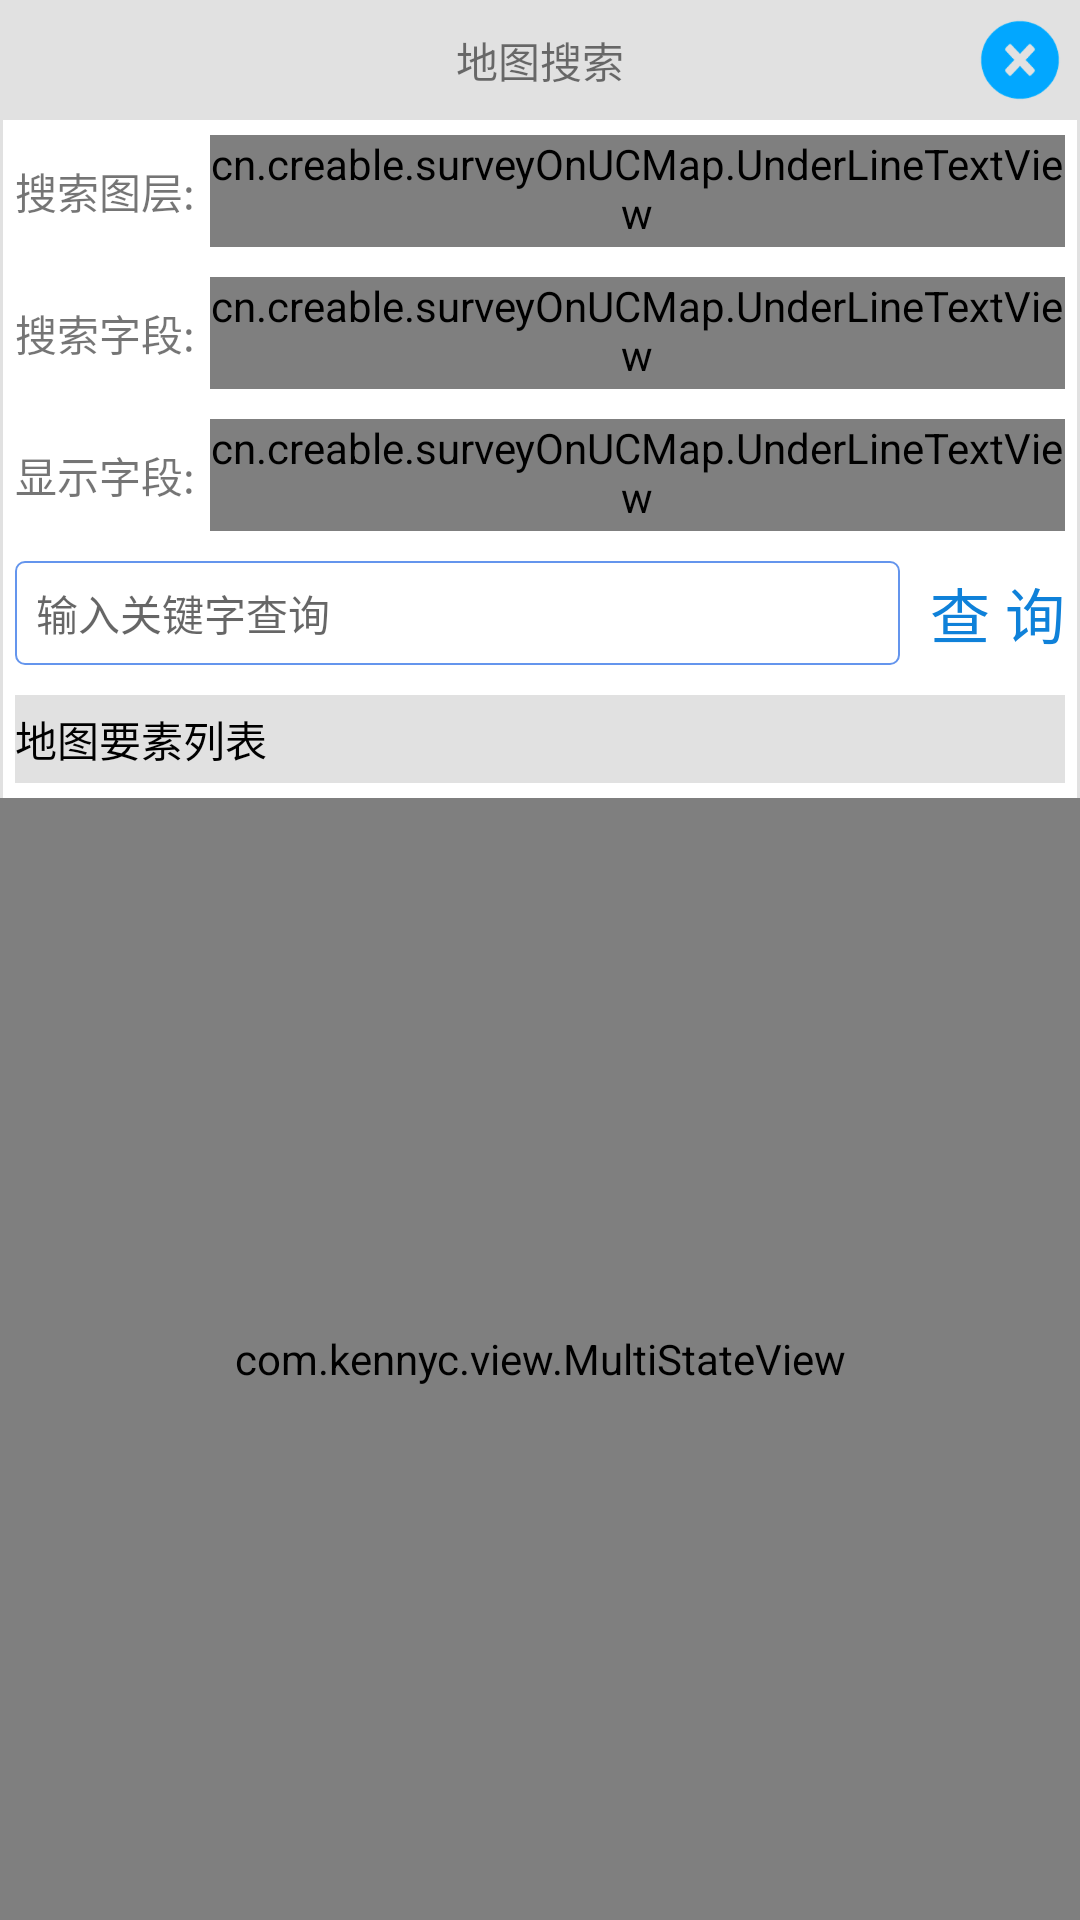

Icon click points for this 1080x1920 phone screenshot, format [x,y]:
closemenu: [1020,60]
